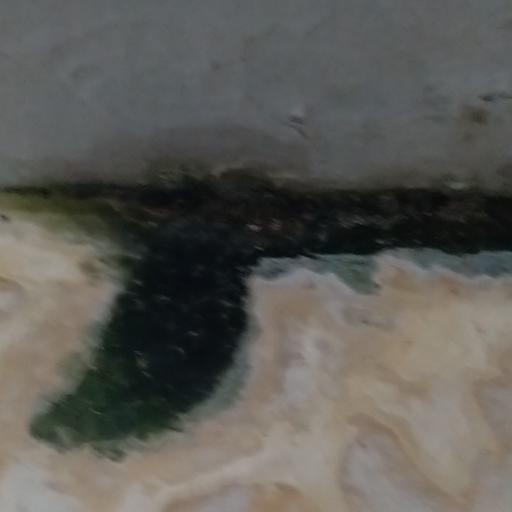algae: (29, 156, 512, 500)
